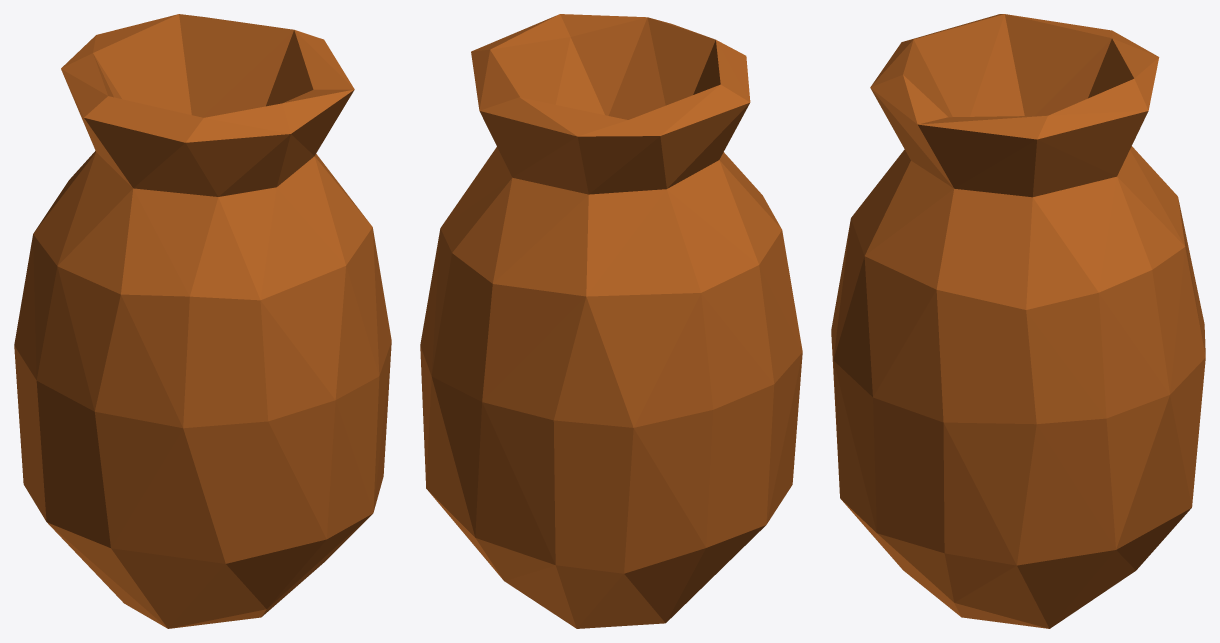
Rendered from SM_pottery_03.fbx.
3 views of the same model, side by side, from view 1: azimuth 30°, elevation 25°; view 2: azimuth 150°, elevation 25°; view 3: azimuth 270°, elevation 25° (orthographic).
Visible parts, largest first — view 1: Object031; view 2: Object031; view 3: Object031.
Boxes of the visible parts, bbox=[...] form: Object031: bbox=[14, 14, 391, 628]; Object031: bbox=[420, 14, 802, 628]; Object031: bbox=[831, 14, 1205, 628].
Size of the model in its own units: 25.02 by 39.38 by 24.72.
